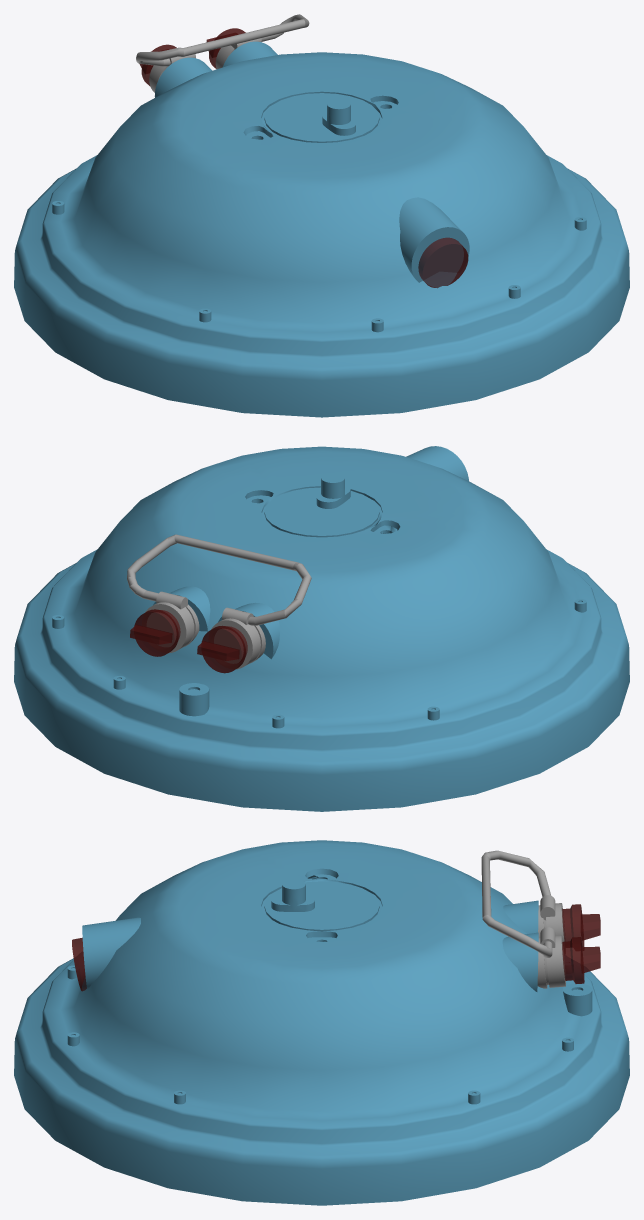
File: bpm.glb
3 renders of one model, top to bottom at view 1: azimuth 30°, elevation 25°; view 2: azimuth 150°, elevation 25°; view 3: azimuth 270°, elevation 25°, orthographic.
Visible parts, largest first — view 1: MDM-7 Mine Optimized, Cylinder.008, Cylinder.012, Cylinder.003, Cylinder.001, Cylinder; view 2: MDM-7 Mine Optimized, Cylinder.012, Cylinder.006, Cylinder.007, Cylinder.004, Cylinder.005, Cylinder.008, Cylinder.001, Cylinder, Cube.001, Cube; view 3: MDM-7 Mine Optimized, Cylinder.008, Cylinder.012, Cylinder, Cylinder.004, Cylinder.006, Cylinder.001, Cylinder.007, Cylinder.005, Cylinder.003.
Boxes of the visible parts, x1,y1,x2,y2 form: MDM-7 Mine Optimized: (14,52,629,417); Cylinder.008: (399,197,469,282); Cylinder.012: (136,14,309,66); Cylinder.003: (418,237,468,288); Cylinder.001: (154,57,212,97); Cylinder: (223,41,277,67); MDM-7 Mine Optimized: (14,446,629,811); Cylinder.012: (127,534,311,625); Cylinder.006: (134,609,180,656); Cylinder.007: (201,625,247,673); Cylinder.004: (145,602,199,653); Cylinder.005: (211,618,265,669); Cylinder.008: (406,446,468,480); Cylinder.001: (218,602,279,659); Cylinder: (153,586,210,631); Cube.001: (197,641,239,661); Cube: (130,625,172,644); MDM-7 Mine Optimized: (14,840,629,1205); Cylinder.008: (82,917,140,989); Cylinder.012: (481,850,552,957); Cylinder: (502,932,538,991); Cylinder.004: (537,935,565,988); Cylinder.006: (562,937,584,983); Cylinder.001: (503,900,538,933); Cylinder.007: (562,904,584,947); Cylinder.005: (538,903,565,941); Cylinder.003: (72,937,86,991).
Size of the model in its own units: 0.7085 by 0.2456 by 0.7085.
